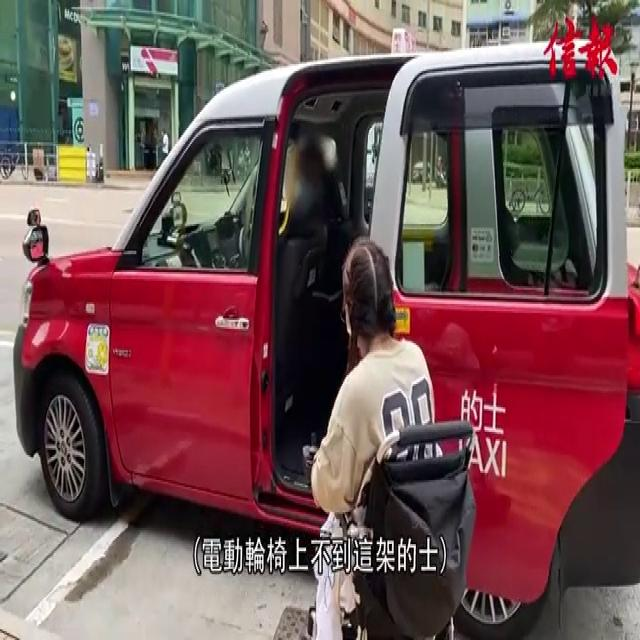wheelchairs: (282, 385, 490, 640)
